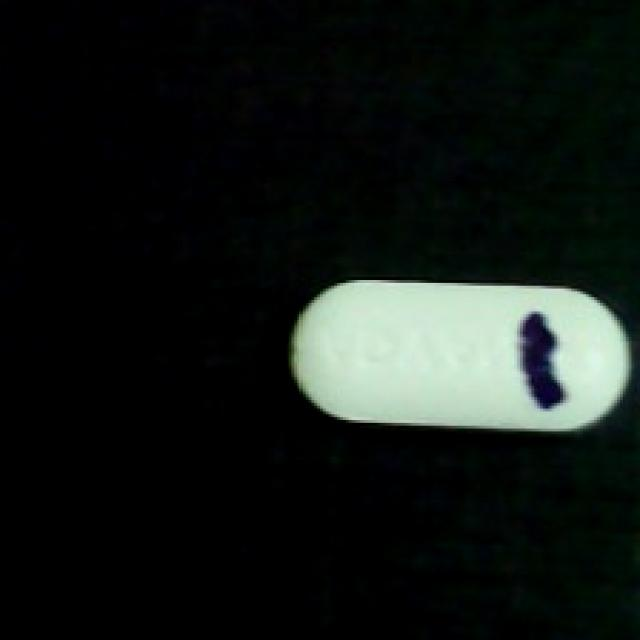defected: (283, 277, 640, 443)
